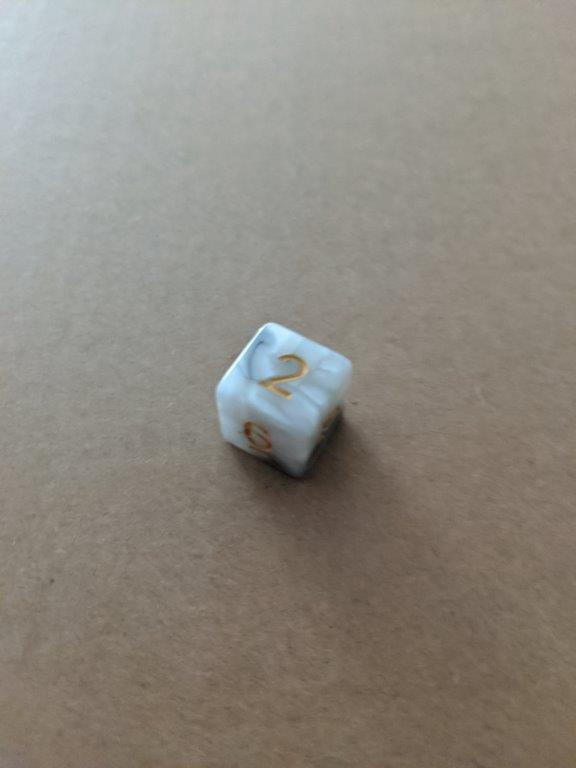d6-2: (216, 322, 351, 479)
